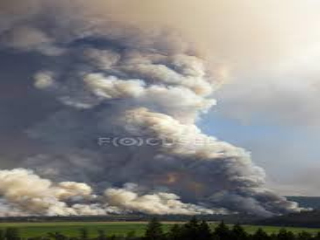smoke: (80, 34, 302, 222)
